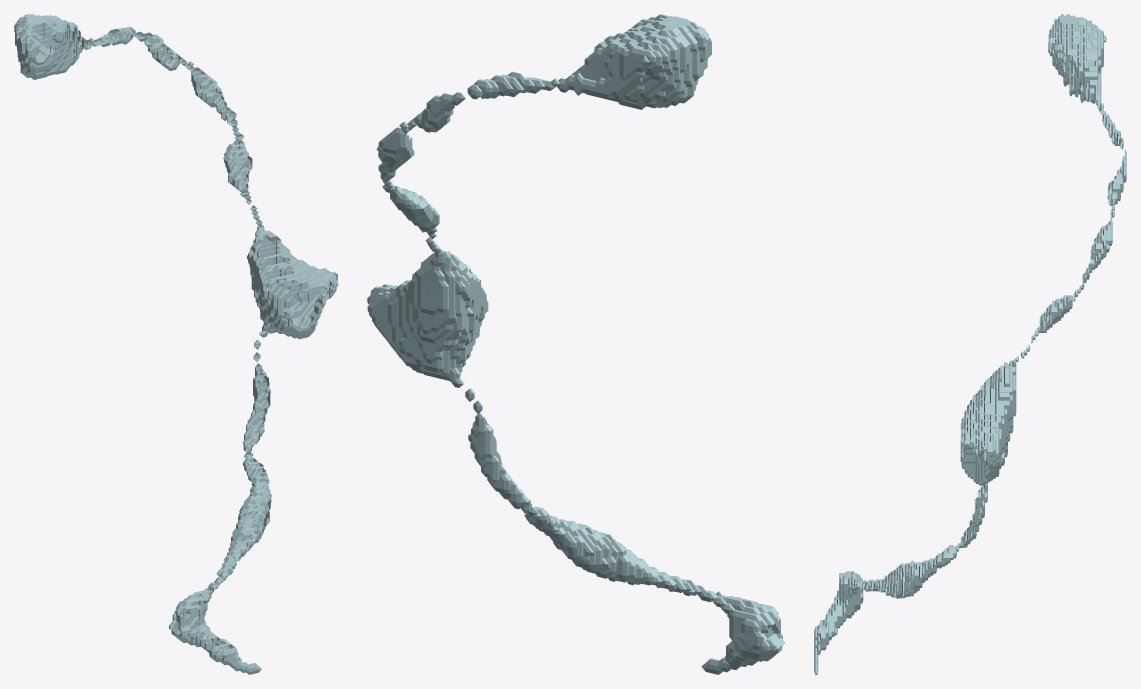
File: SVV_ASJR.gltf
3 renders of one model, left to right at view 1: azimuth 30°, elevation 25°; view 2: azimuth 150°, elevation 25°; view 3: azimuth 270°, elevation 25°, orthographic. The views are drawn at different scales.
Parts seen in each view (by area): view 1: ASJR; view 2: ASJR; view 3: ASJR.
Boxes of the visible parts, <box> form: ASJR: <box>14,14,338,674</box>; ASJR: <box>367,14,785,674</box>; ASJR: <box>814,14,1126,674</box>.
Bounding box in the file's own units: 45579 × 90670 × 42390.
